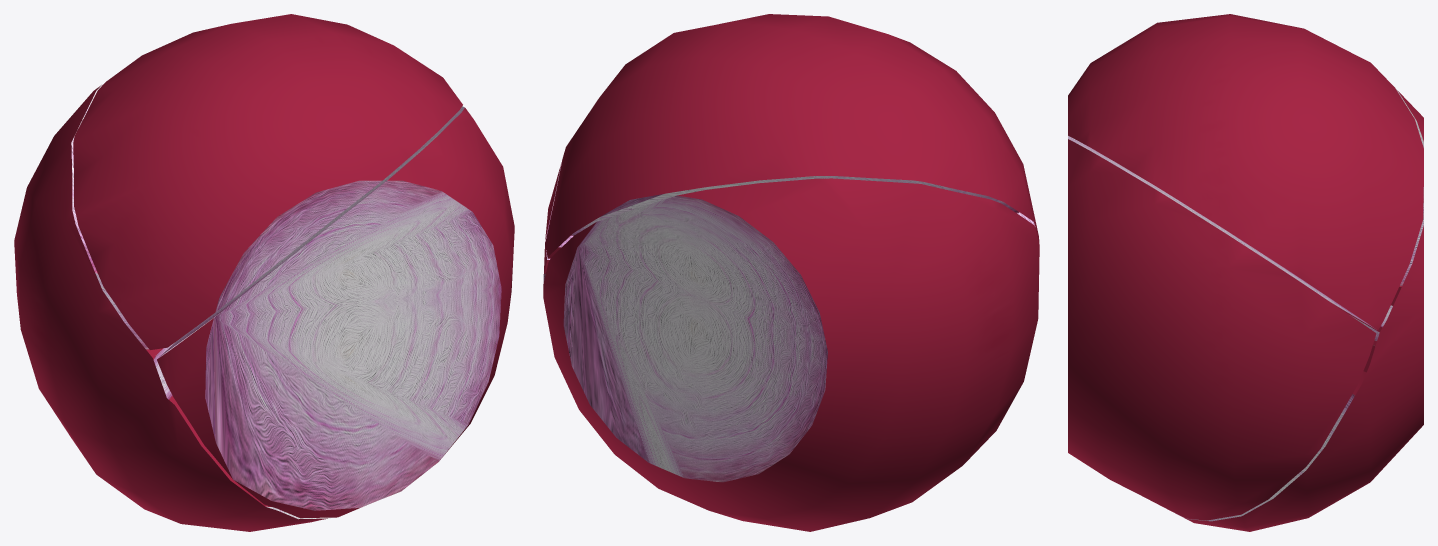
The model's file is onion.fbx.
3 renders of one model, left to right at view 1: azimuth 30°, elevation 25°; view 2: azimuth 150°, elevation 25°; view 3: azimuth 270°, elevation 25°, orthographic. The views are drawn at different scales.
Visible parts, largest first — view 1: Onion_cell, Onion_cell.001, Onion_cell.002; view 2: Onion_cell.002, Onion_cell.001; view 3: Onion_cell, Onion_cell.001, Onion_cell.002.
Boxes of the visible parts, box(x1,y1,x2,y2) form: Onion_cell: box(157, 106, 514, 518); Onion_cell.001: box(73, 14, 462, 349); Onion_cell.002: box(14, 84, 331, 531); Onion_cell.002: box(543, 178, 1039, 531); Onion_cell.001: box(545, 14, 1038, 258); Onion_cell: box(1068, 139, 1376, 520); Onion_cell.001: box(1068, 14, 1423, 330); Onion_cell.002: box(1160, 66, 1423, 531).
Bounding box in the file's own units: 26.35 × 27.45 × 18.83.
